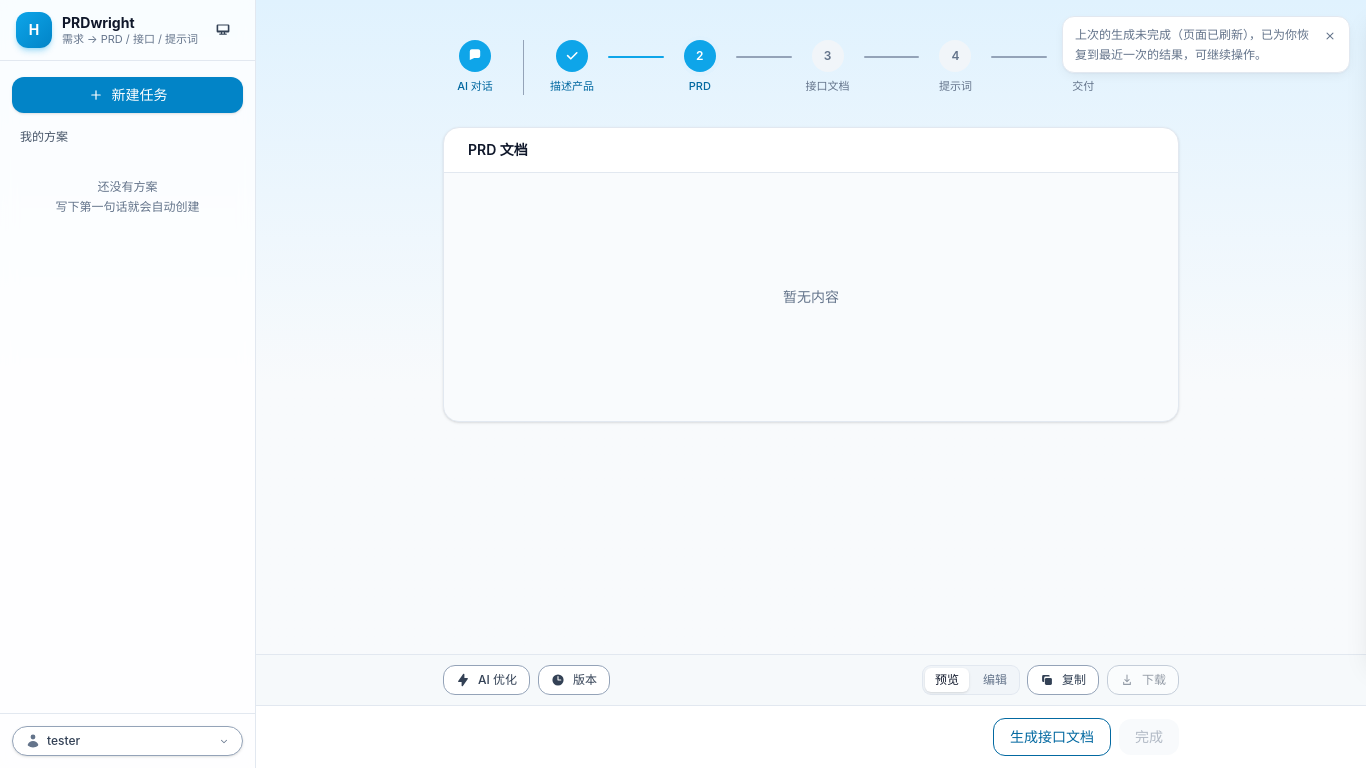
AppV2 完整流程编排 › 降级说明是可关闭的浮层：点「×」即消失，且不影响阶段本身
The width and height of the screenshot is (1366, 768).
Click the button named "关闭降级说明". click: (1330, 36)
box: [1319,25,1341,47]
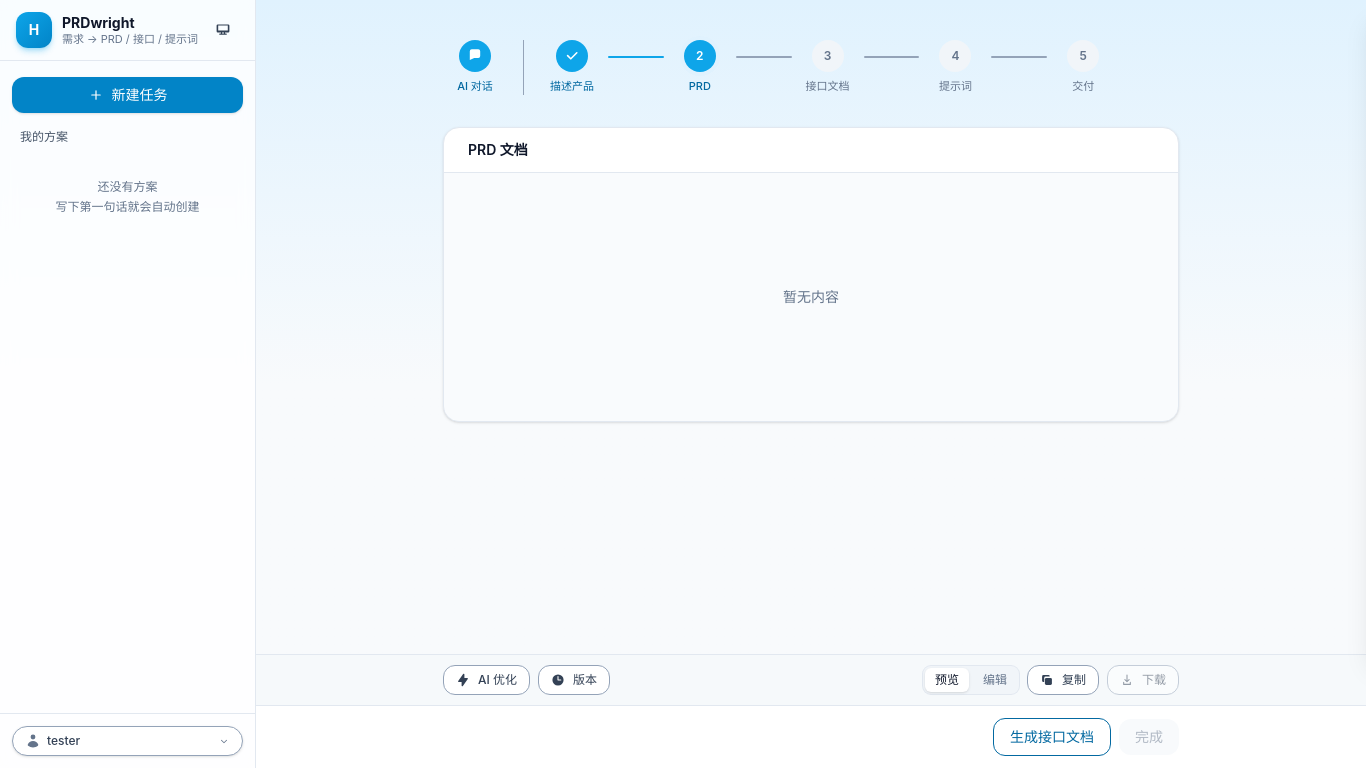
Result: the text "上次的生成未完成" is gone
